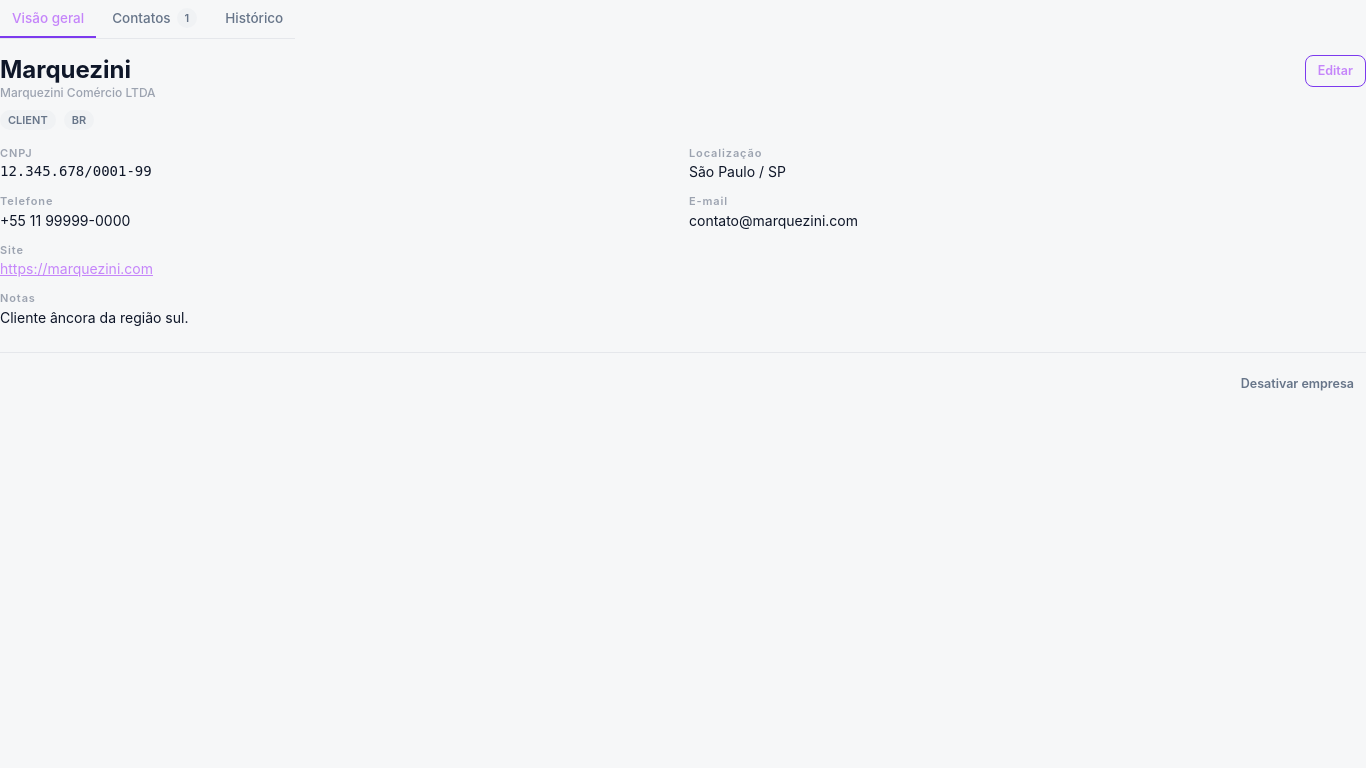
Test: CompanyDetailContent — interações (housekeeping) › cancelar no modal de desativação NÃO dispara remove
What coordinates should you click on to do the following:
click the button "Desativar empresa"
I would click on:
 (1297, 385)
Its box is [1229,369,1365,401].
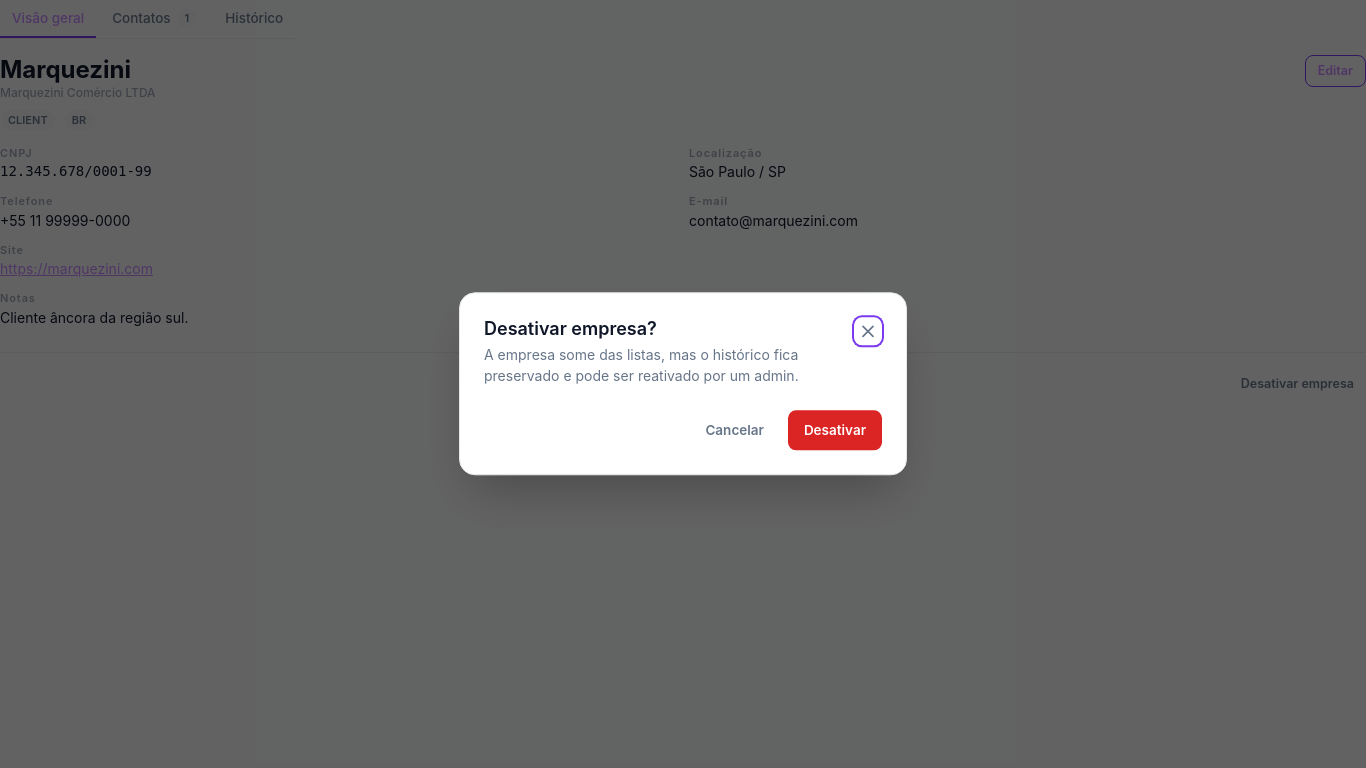
What coordinates should you click on to do the following:
click the button "Cancelar"
I would click on:
 (735, 431)
Its box is [689,411,780,451].
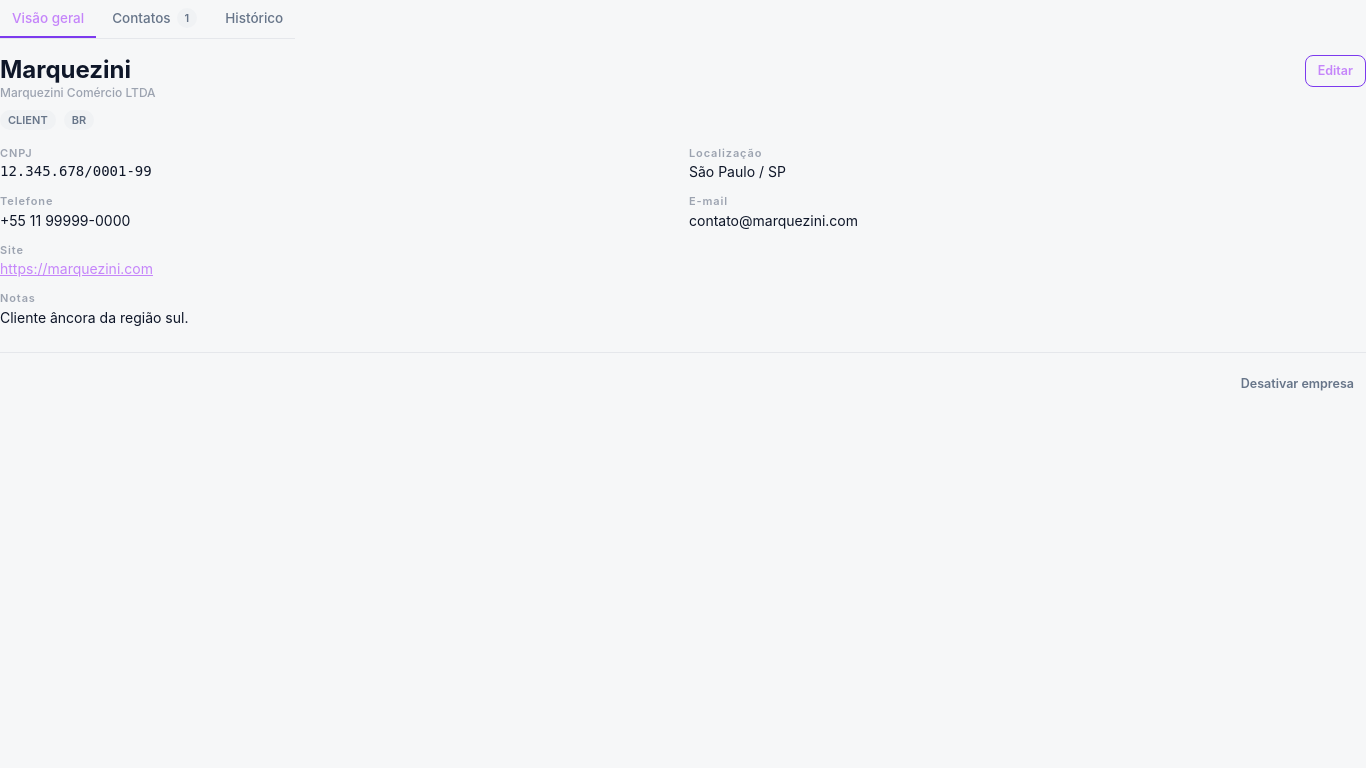
Expected: the heading "Desativar empresa?" is gone
